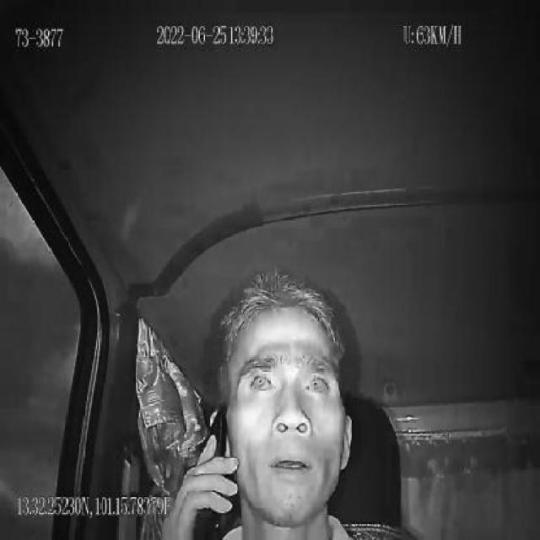phone: (199, 400, 228, 540)
